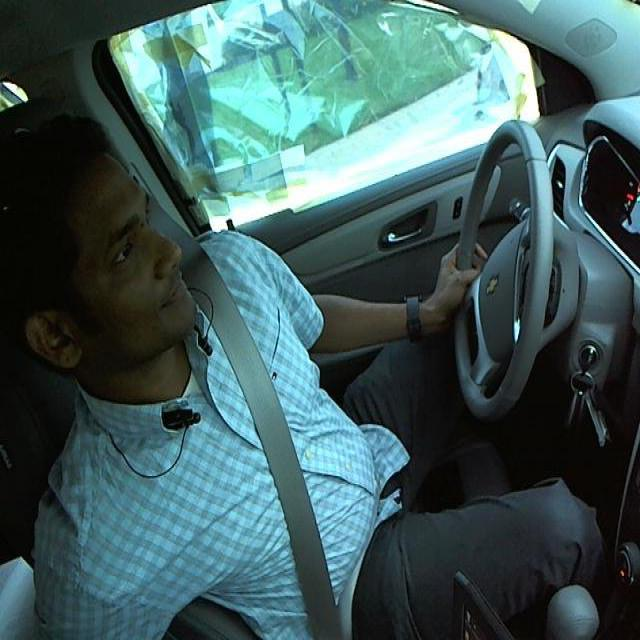seatbelt: (207, 325, 356, 639)
